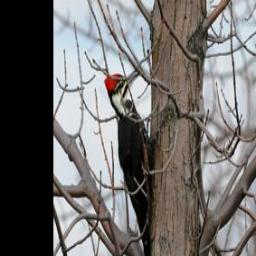Woodpecker: (103, 66, 157, 256)
